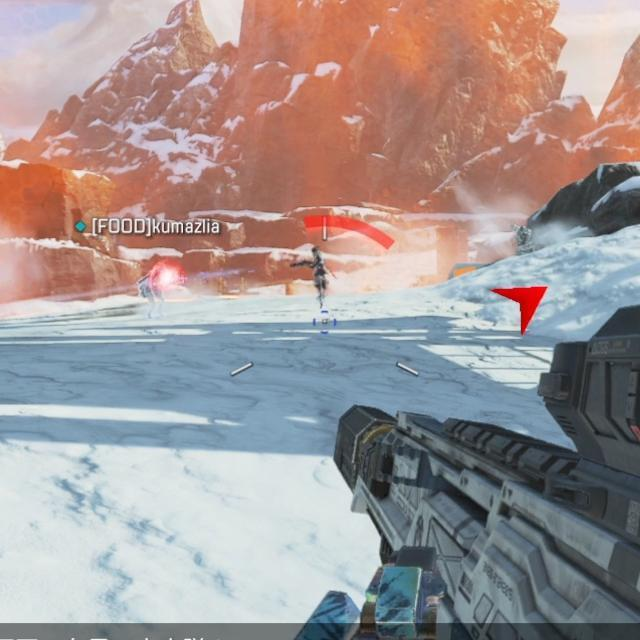avatar: (307, 244, 331, 309)
